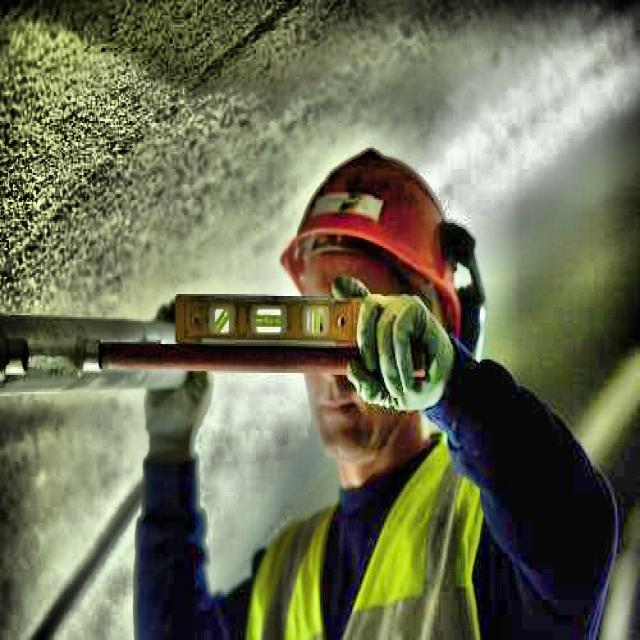helmet: (264, 115, 484, 469)
